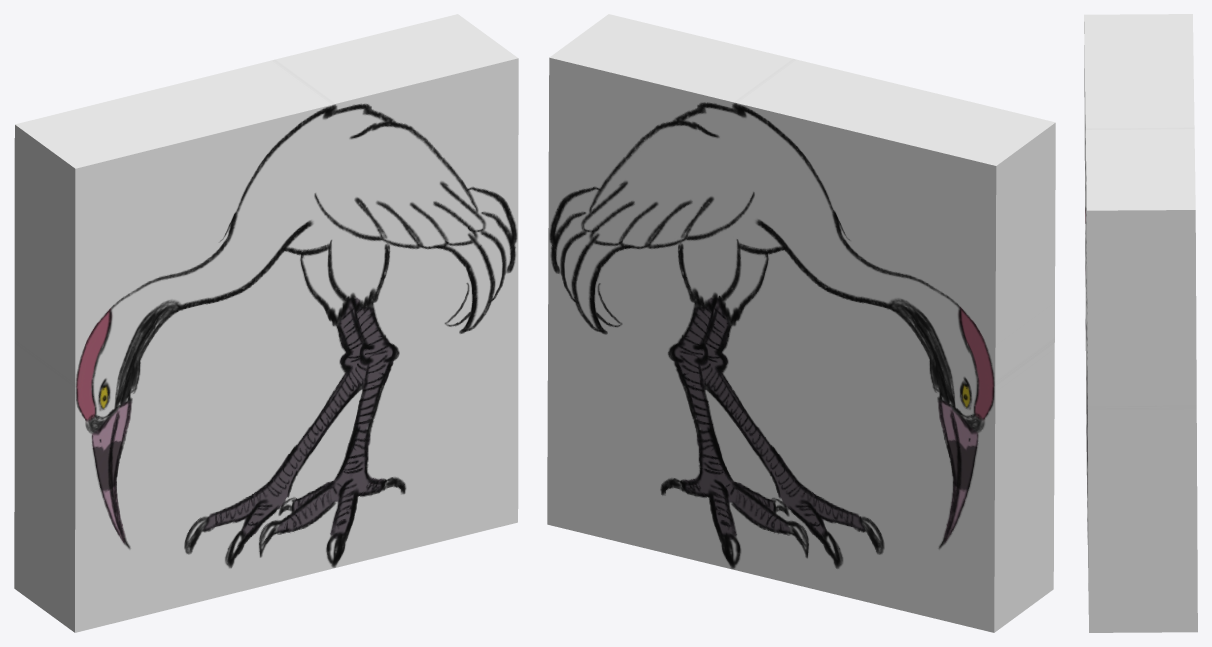
The model's file is movingcrane.fbx.
3 views of the same model, side by side, from view 1: azimuth 30°, elevation 25°; view 2: azimuth 150°, elevation 25°; view 3: azimuth 270°, elevation 25° (orthographic). The views are drawn at different scales.
Parts seen in each view (by area): view 1: pPlane1; view 2: pPlane1; view 3: pPlane1.
Part boxes in pixels (x1=…): pPlane1: x1=14, y1=14, x2=518, y2=632; pPlane1: x1=547, y1=14, x2=1055, y2=632; pPlane1: x1=1084, y1=14, x2=1197, y2=632.
Size of the model in its own units: 1 by 1 by 0.2446.
